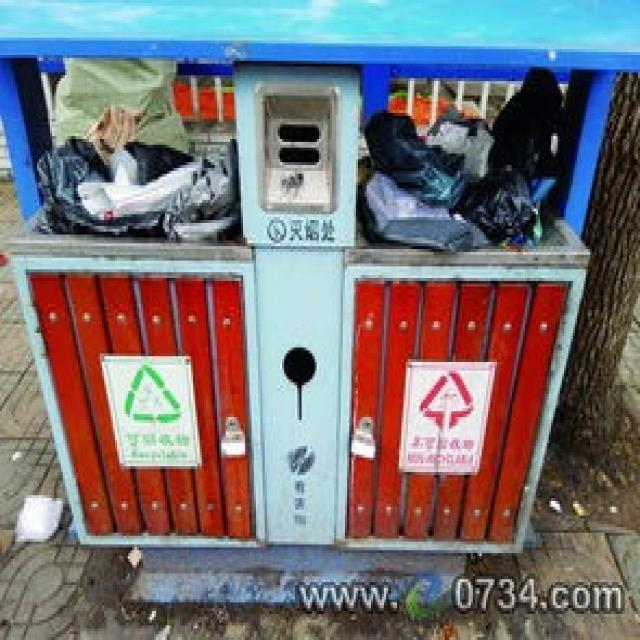overflow: (0, 0, 638, 605)
